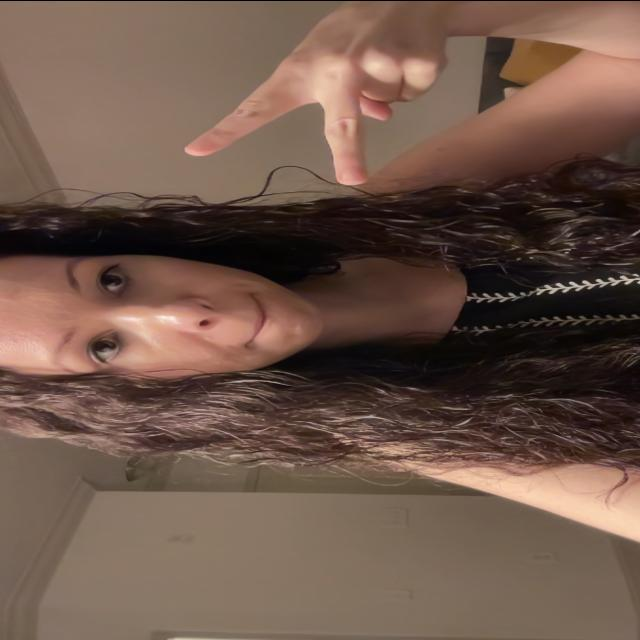Scissors: (174, 0, 460, 187)
